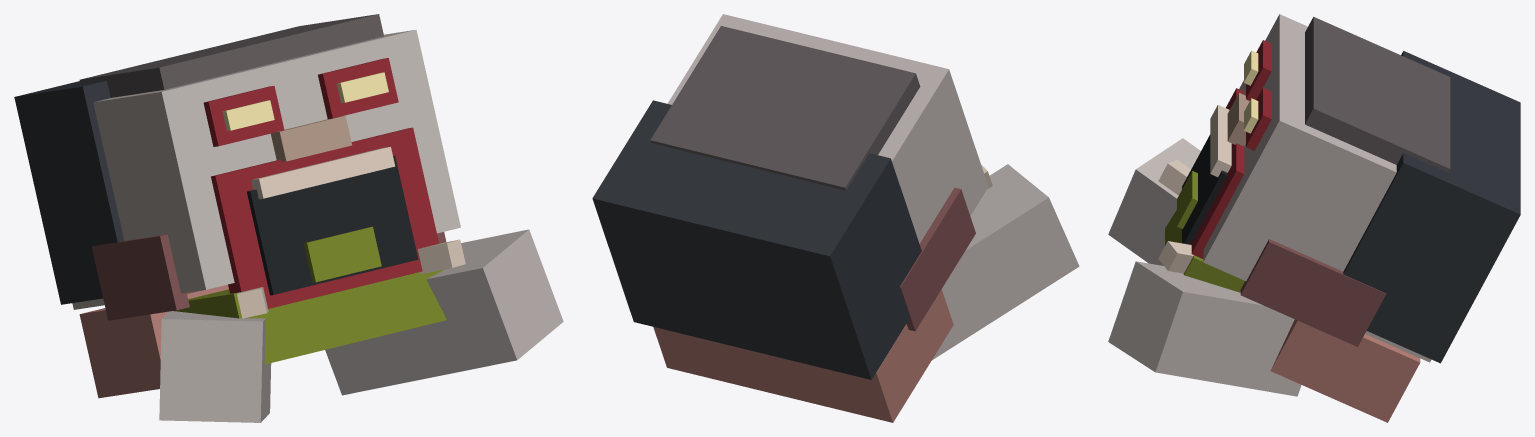
File: inf_v2_hocker_head.fbx
3 renders of one model, left to right at view 1: azimuth 30°, elevation 25°; view 2: azimuth 150°, elevation 25°; view 3: azimuth 270°, elevation 25°, orthographic. The views are drawn at different scales.
Visible parts, largest first — view 1: inf_v2_hocker_head; view 2: inf_v2_hocker_head; view 3: inf_v2_hocker_head.
Boxes of the visible parts, left/top/right/bottom form: inf_v2_hocker_head: left=14, top=14, right=563, bottom=422; inf_v2_hocker_head: left=592, top=14, right=1079, bottom=422; inf_v2_hocker_head: left=1108, top=14, right=1520, bottom=422.
Size of the model in its own units: 184 by 156 by 190.
